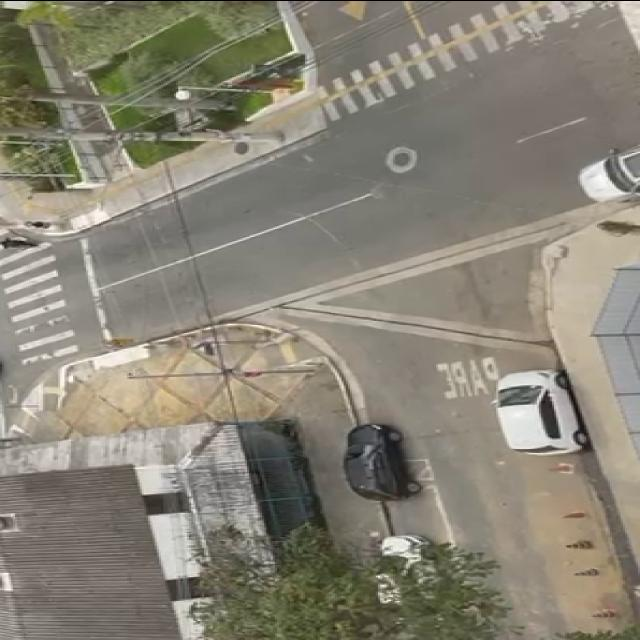car: (489, 366, 597, 458), (332, 421, 427, 501), (574, 140, 640, 204)
motorbike: (0, 230, 43, 253)
